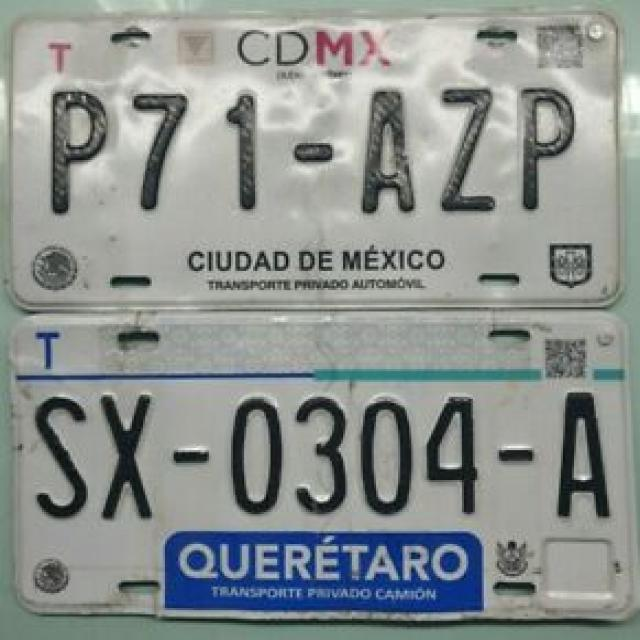placa: (10, 378, 638, 522), (14, 77, 608, 209)
